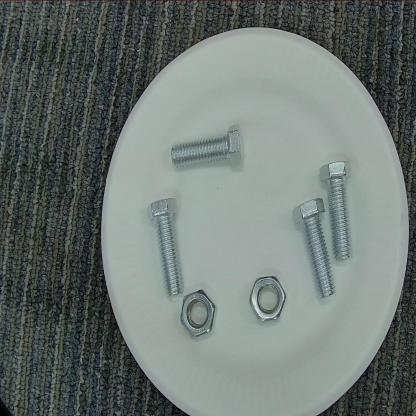FOD: (165, 117, 251, 175), (292, 198, 334, 302), (146, 190, 185, 297), (319, 158, 356, 269), (177, 288, 220, 342), (248, 274, 287, 323)
